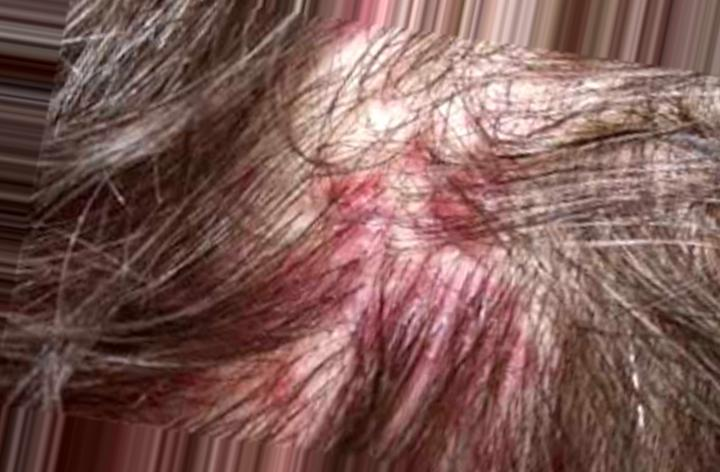Folliculitis: (260, 100, 545, 295)
